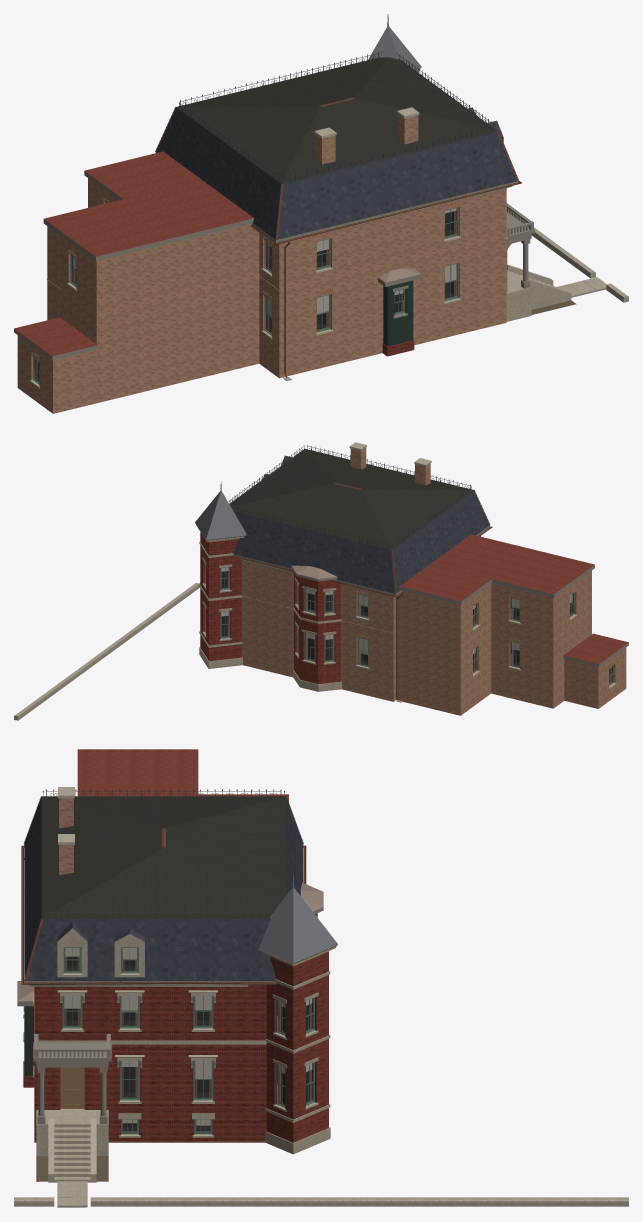
Rendered from kellogg_house_1709_prairie__as_mapped_1904.glb.
3 views of the same model, one above another, from view 1: azimuth 30°, elevation 25°; view 2: azimuth 150°, elevation 25°; view 3: azimuth 270°, elevation 25° (orthographic). The views are drawn at different scales.
Parts seen in each view (by area): view 1: kellogg_house_1709_prairie__as_mapped_1904; view 2: kellogg_house_1709_prairie__as_mapped_1904; view 3: kellogg_house_1709_prairie__as_mapped_1904.
Part boxes in pixels (<box>): kellogg_house_1709_prairie__as_mapped_1904: <box>14,14,628,413</box>; kellogg_house_1709_prairie__as_mapped_1904: <box>14,442,628,720</box>; kellogg_house_1709_prairie__as_mapped_1904: <box>14,749,628,1207</box>.
Size of the model in its own units: 36.52 by 14.56 by 30.56.
Materials: 28 (16 with a texture image).
